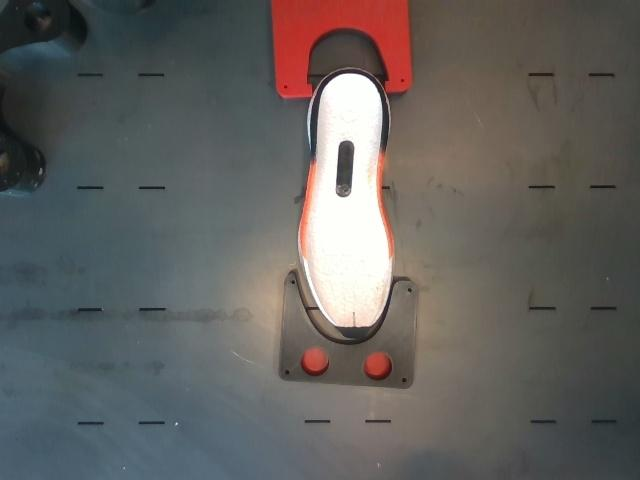shoes: (302, 70, 391, 336)
